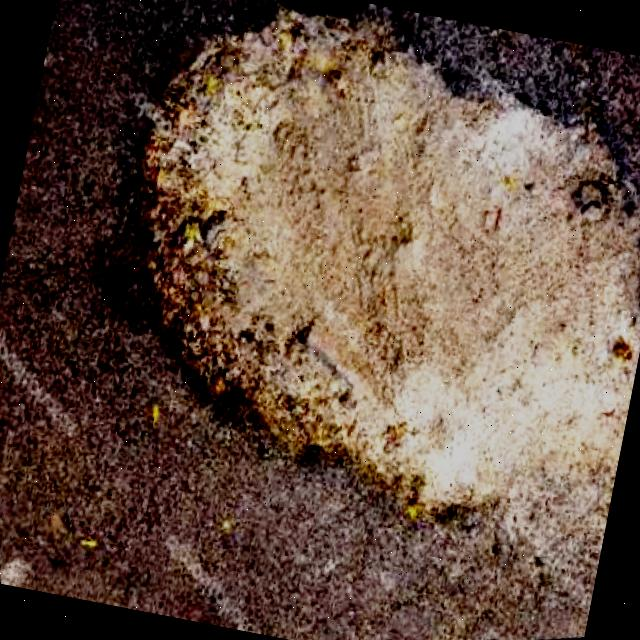pothole: (61, 0, 640, 601)
